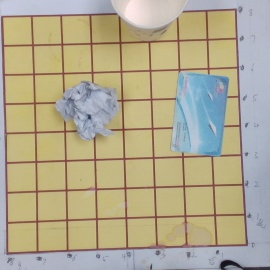card: (169, 71, 230, 157)
cup: (107, 1, 188, 46)
